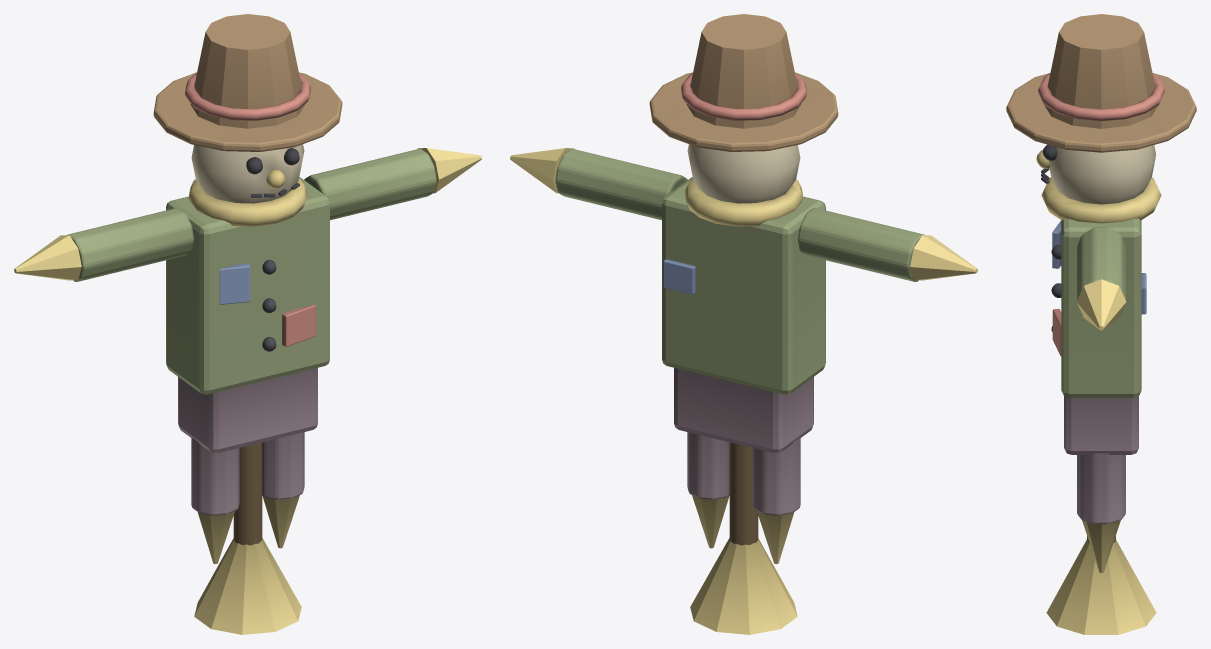
Rendered from scarecrowPole.glb.
The picture shows the model from 3 angles, left to right: view 1: azimuth 30°, elevation 25°; view 2: azimuth 150°, elevation 25°; view 3: azimuth 270°, elevation 25°; orthographic projection.
Visible parts, largest first — view 1: ScarecrowPole; view 2: ScarecrowPole; view 3: ScarecrowPole.
Part boxes in pixels (x1=…): ScarecrowPole: x1=14, y1=14, x2=481, y2=634; ScarecrowPole: x1=510, y1=14, x2=977, y2=634; ScarecrowPole: x1=1006, y1=14, x2=1196, y2=634.
Bounding box in the file's own units: 2.15 × 2.56 × 0.7601.
